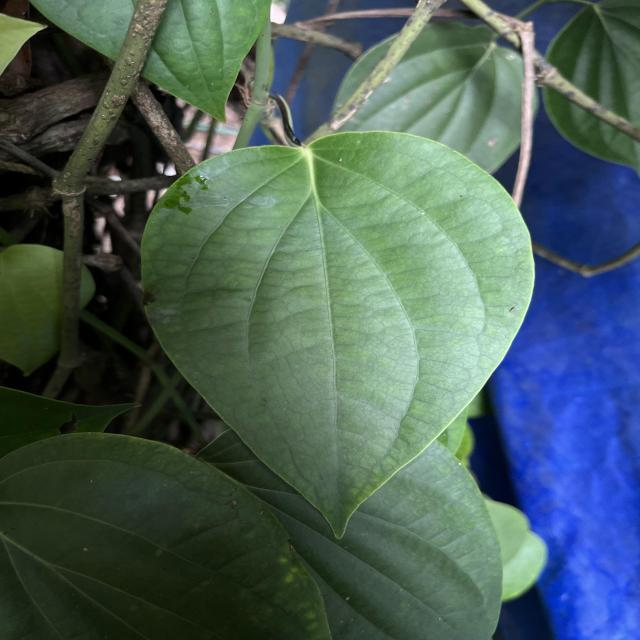Piper nigrum: (136, 128, 538, 542)
